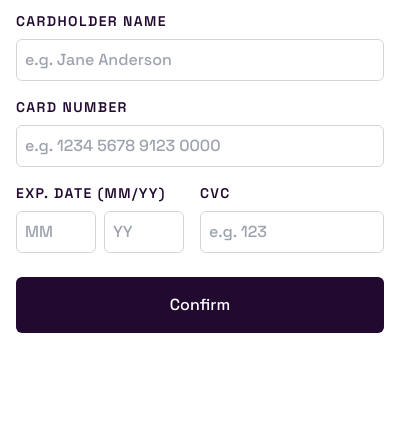
Form › wrong cvc input - letters
Step 1. Type "abc" into the field labelled "CVC" → (292,232), box [200,211,384,253]
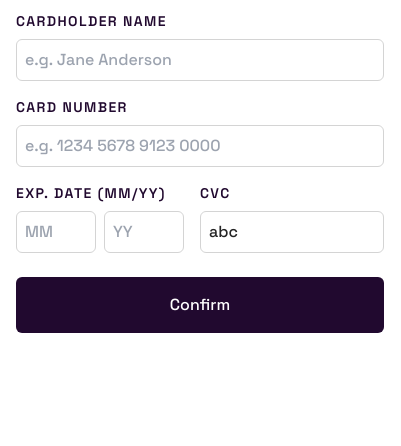
Step 2. Click the button with test id "submitBtn" → (200,305), box [16,277,384,333]
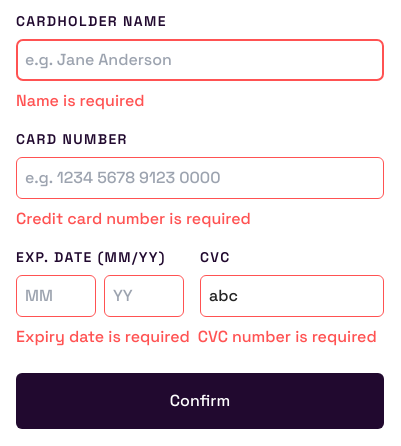
Expected: the text "CVC number is required" is shown, [198,325,377,349]
